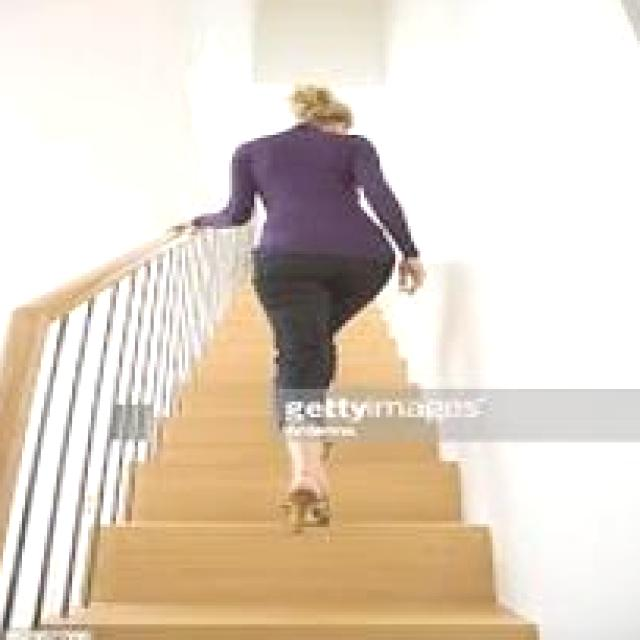upstair: (89, 383, 522, 640)
